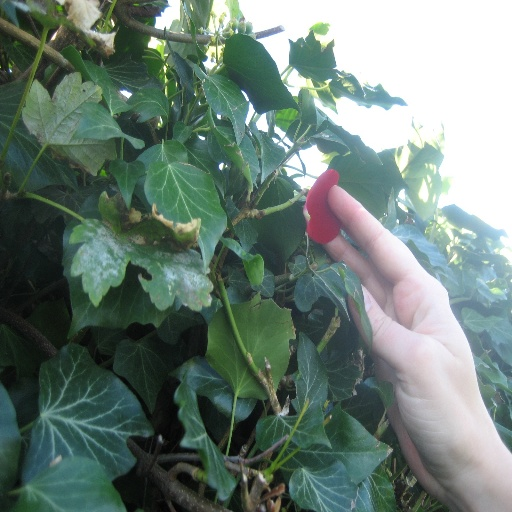hand: (316, 186, 508, 512)
